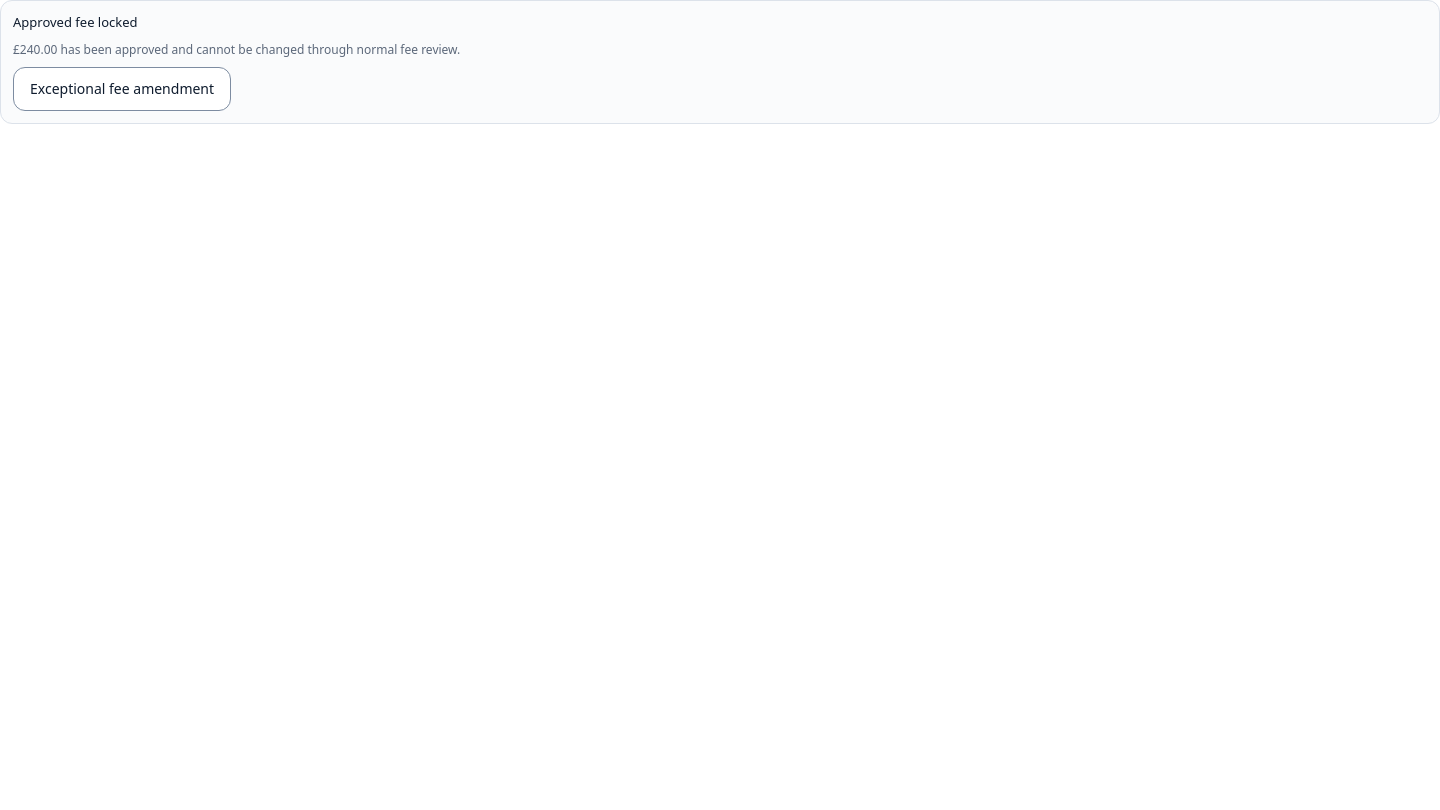
Test: Abort fee-review lock › requires a reason and the previous amount for a Super Admin correction
This screenshot has width=1440, height=810.
Later steps or results of the test are not shown.
Click the button "Exceptional fee amendment": [122, 88] box x1=13 y1=66 x2=231 y2=110
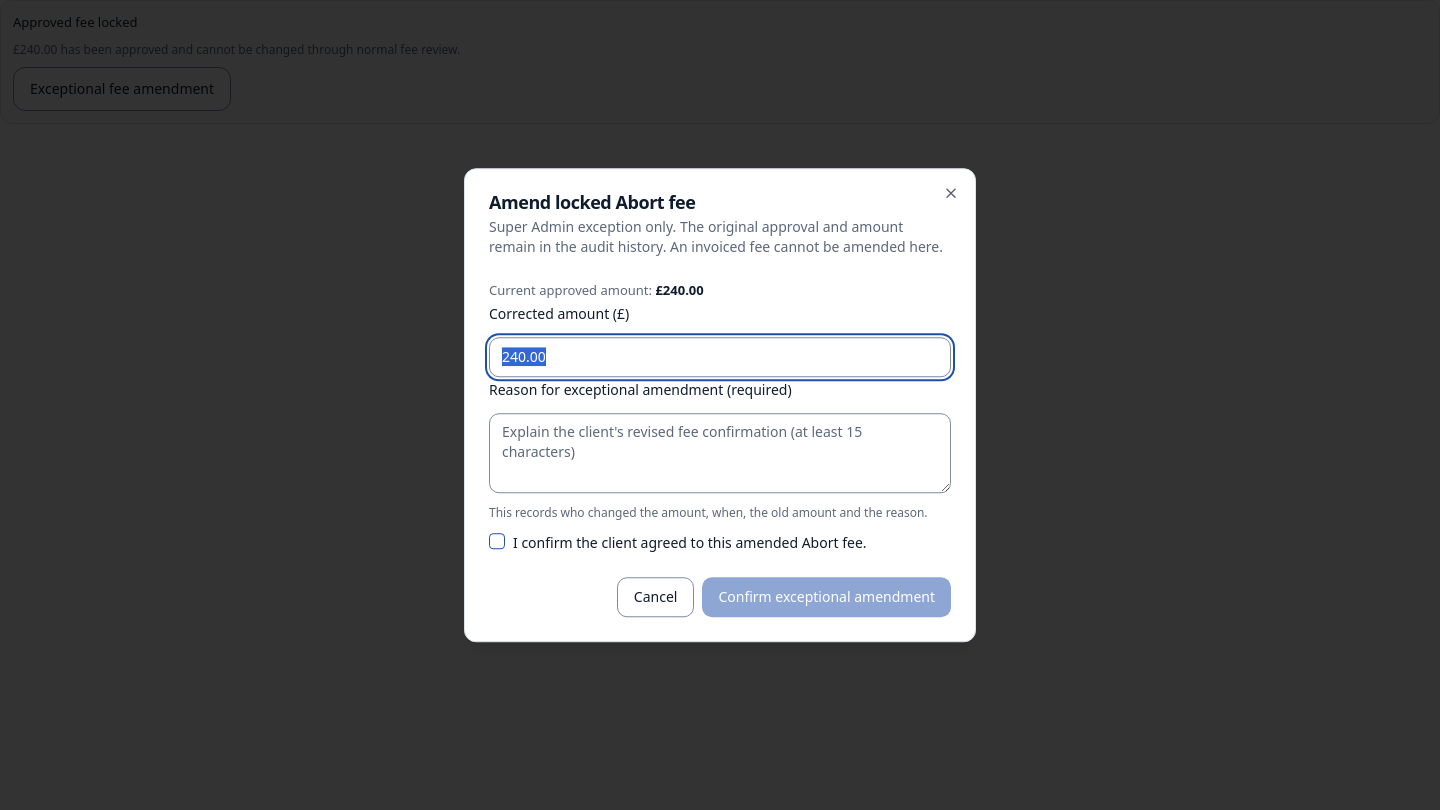
Now the button "Confirm exceptional amendment" is disabled, box x1=702 y1=577 x2=951 y2=617
Replace the text in the field named "Corrected Abort fee amount" with "210.00": [720, 357] box x1=489 y1=337 x2=951 y2=377
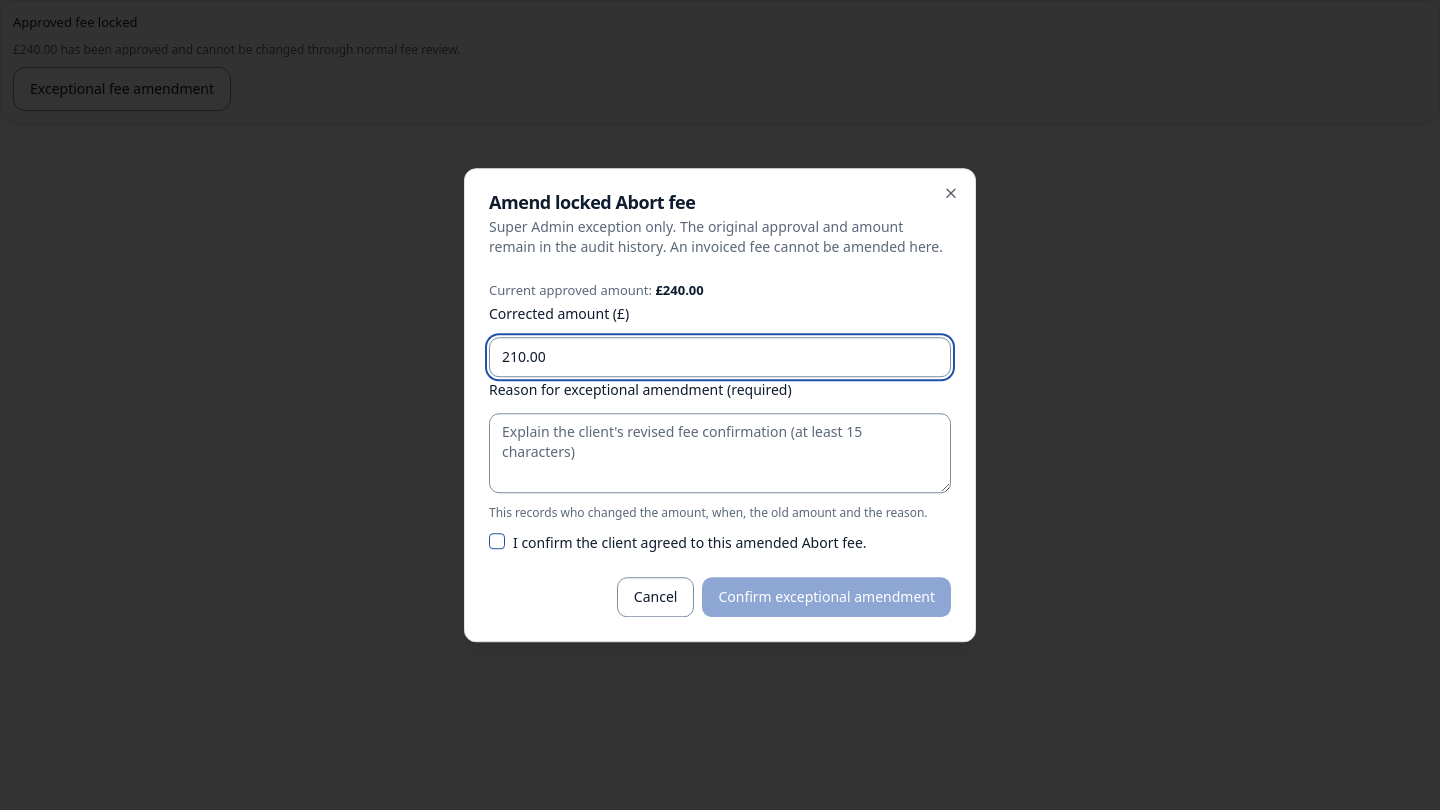
Now the button "Confirm exceptional amendment" is disabled, box x1=702 y1=577 x2=951 y2=617
Replace the text in the text box labelled "Reason for exceptional amendment (required)" with "Client confirmed a revised Abort fee": [720, 453] box x1=489 y1=413 x2=951 y2=493
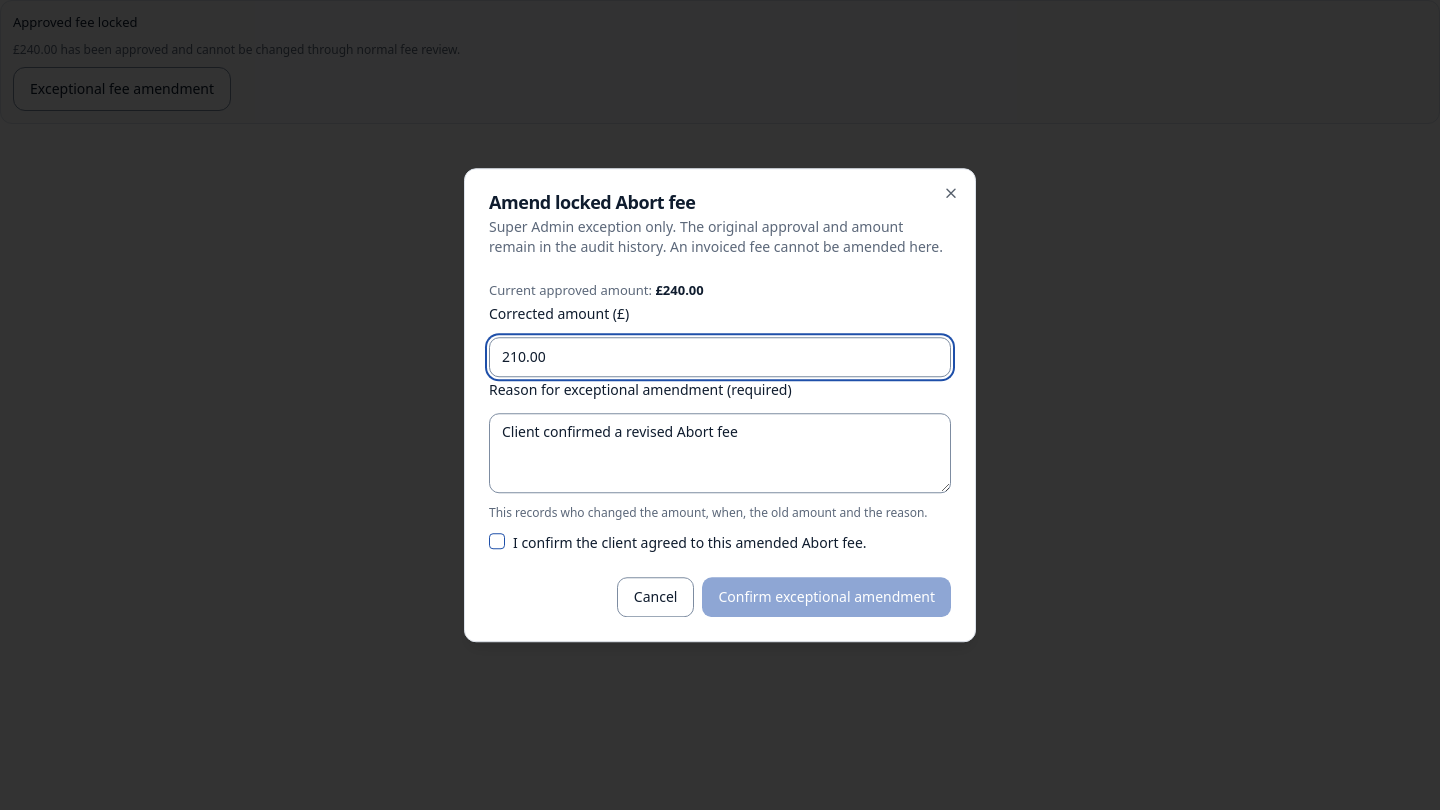
Now the button "Confirm exceptional amendment" is disabled, box x1=702 y1=577 x2=951 y2=617
Click the checkbox named "Client has agreed to amended Abort fee": [497, 541] box x1=489 y1=533 x2=505 y2=549
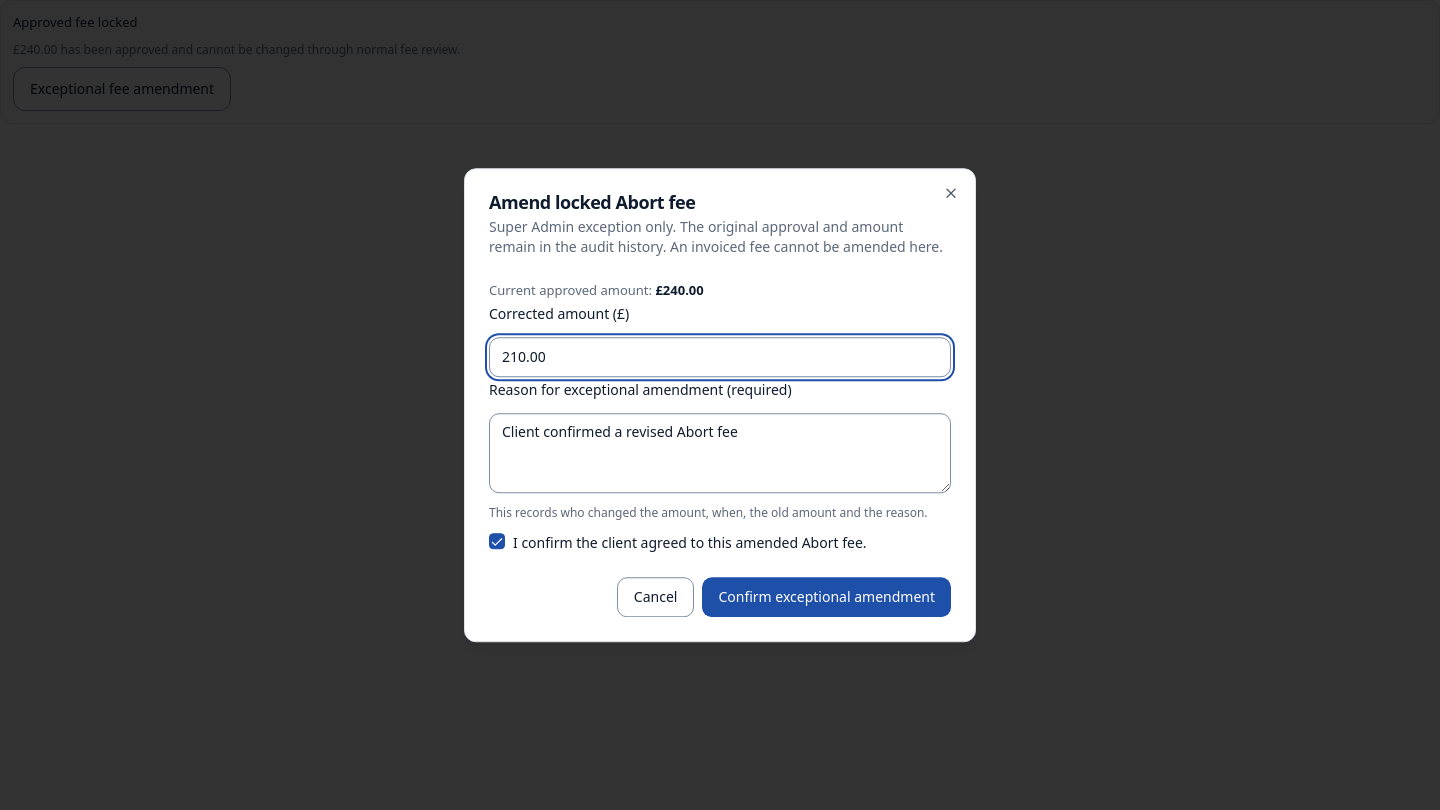
Now the button "Confirm exceptional amendment" is enabled, box x1=702 y1=577 x2=951 y2=617
